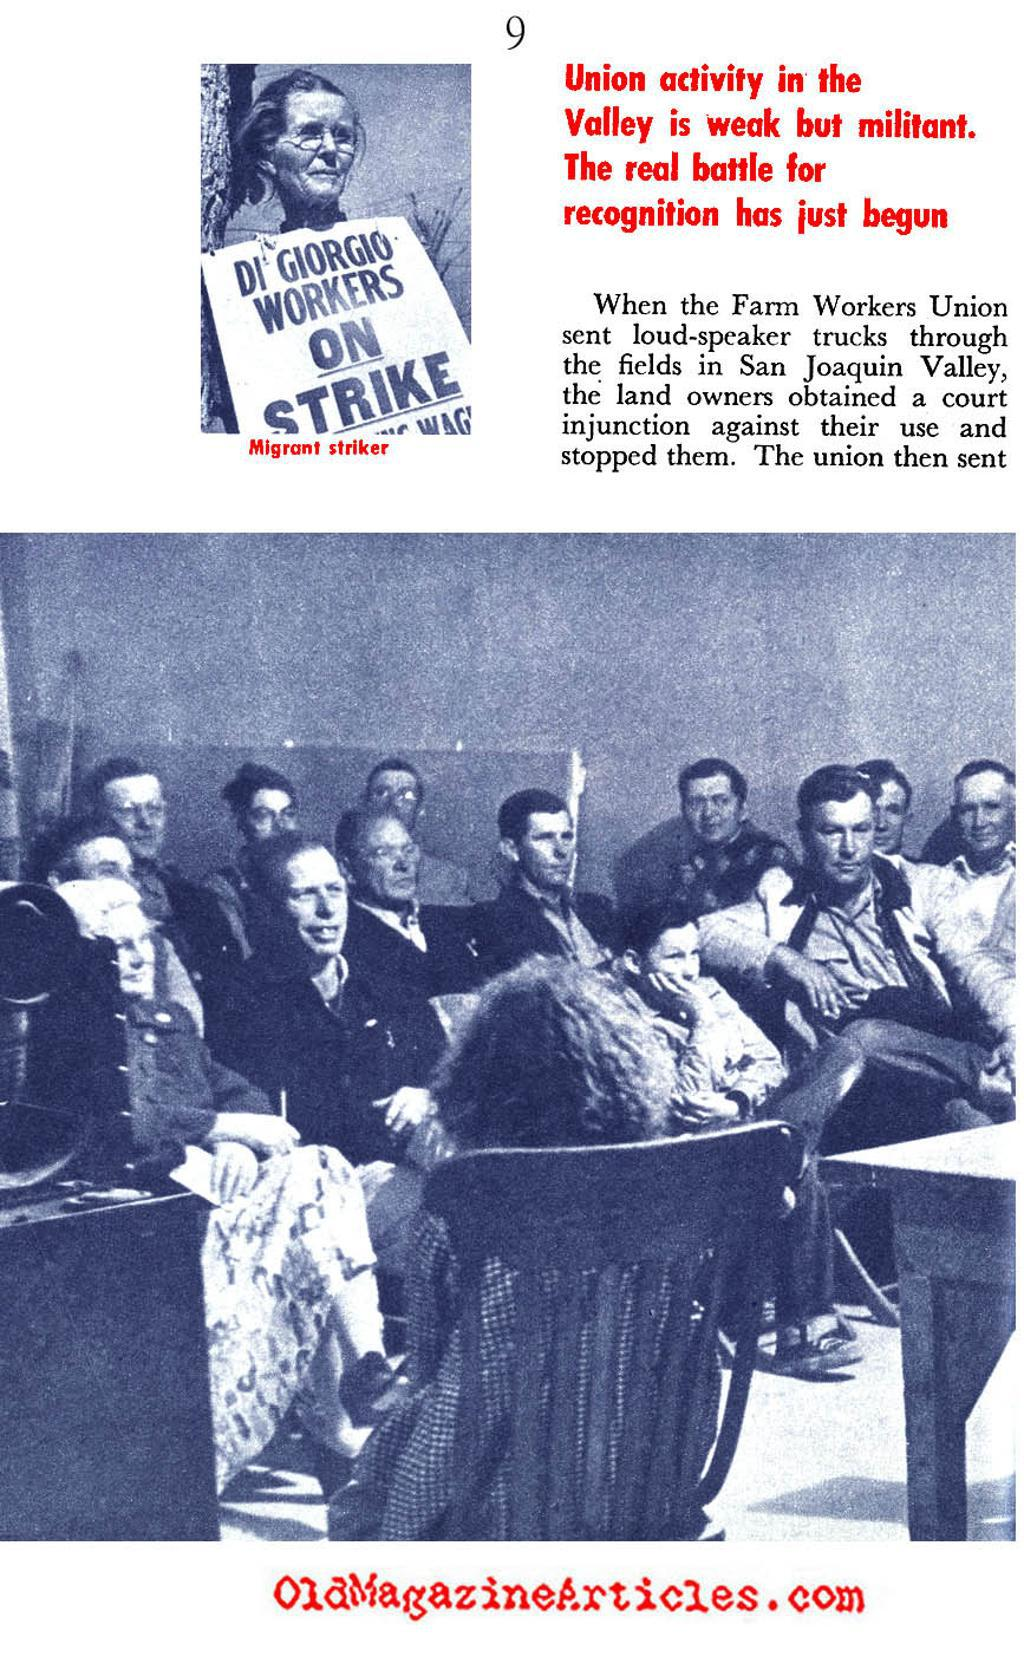face: (278, 90, 354, 198), (277, 860, 348, 955), (81, 911, 156, 995), (810, 797, 875, 883), (100, 782, 166, 858), (71, 851, 143, 913), (521, 809, 574, 885), (358, 833, 419, 900), (646, 931, 701, 997), (958, 784, 1011, 851), (686, 776, 739, 841), (247, 791, 297, 854), (861, 784, 907, 851), (370, 773, 418, 833)
